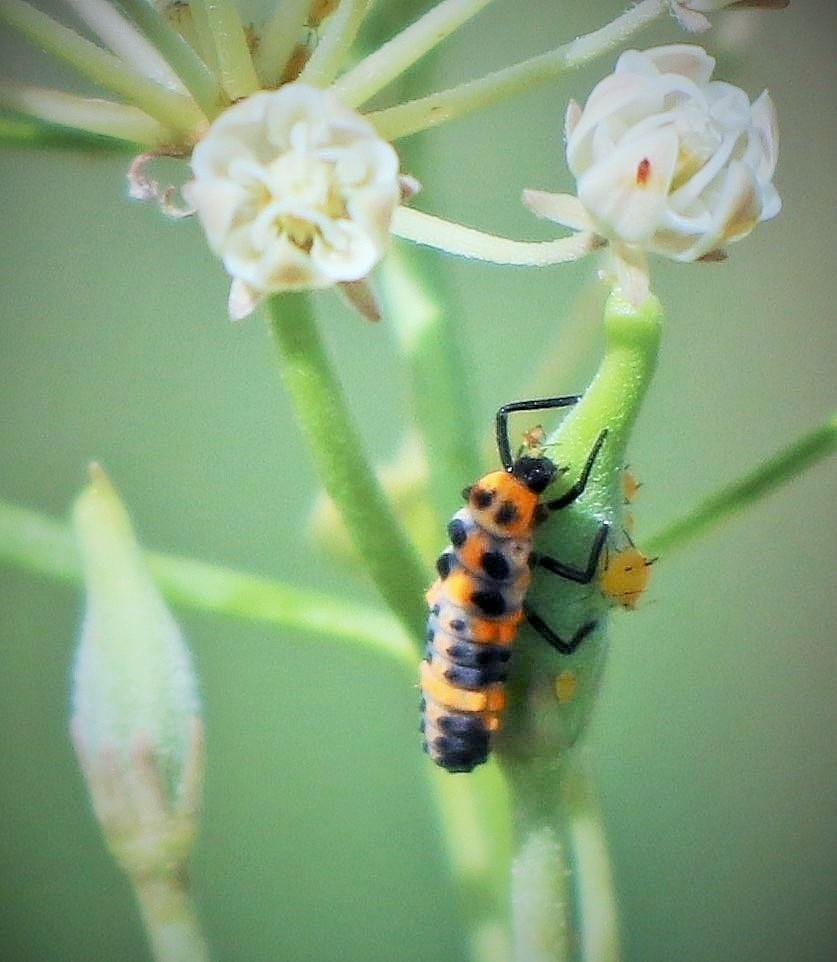ladybug: (416, 391, 616, 776)
